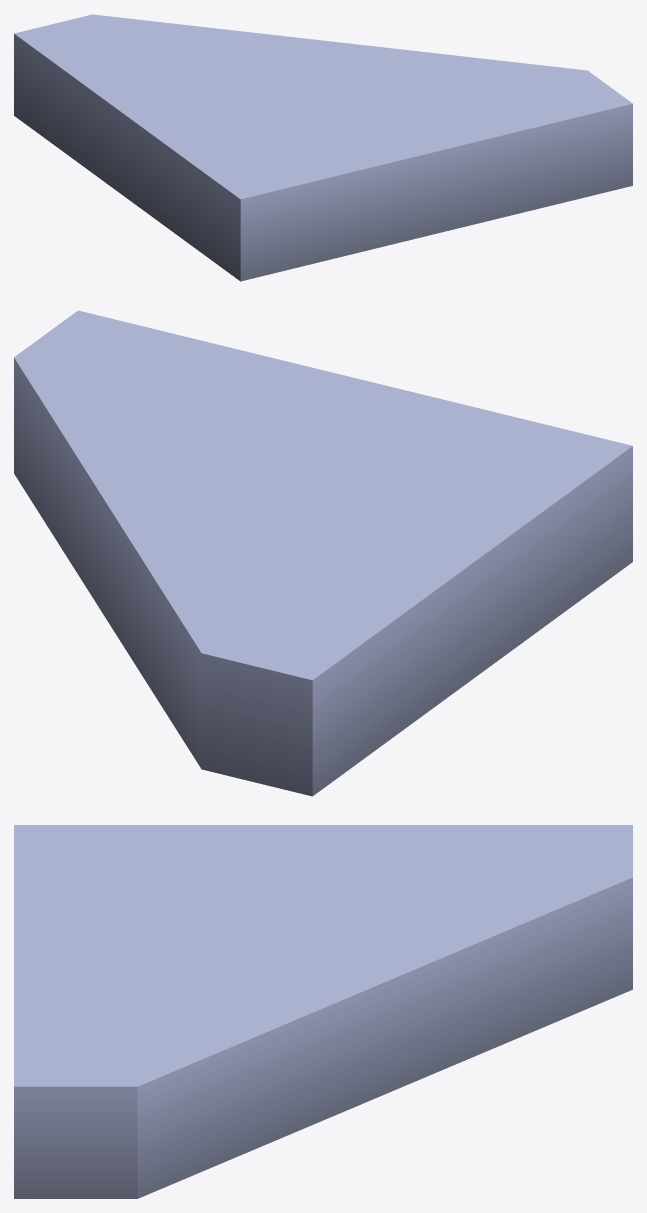
File: floor-thick-corner-diagonal.glb
3 renders of one model, top to bottom at view 1: azimuth 30°, elevation 25°; view 2: azimuth 150°, elevation 25°; view 3: azimuth 270°, elevation 25°, orthographic. The views are drawn at different scales.
Visible parts, largest first — view 1: floor-thick-corner-diagonal; view 2: floor-thick-corner-diagonal; view 3: floor-thick-corner-diagonal.
Part boxes in pixels (box(x1,y1,x2,y2)): floor-thick-corner-diagonal: box(14, 14, 632, 281); floor-thick-corner-diagonal: box(14, 310, 632, 796); floor-thick-corner-diagonal: box(14, 825, 632, 1198).
Size of the model in its own units: 1 by 0.2 by 1.
Materials: 1 (1 with a texture image).
